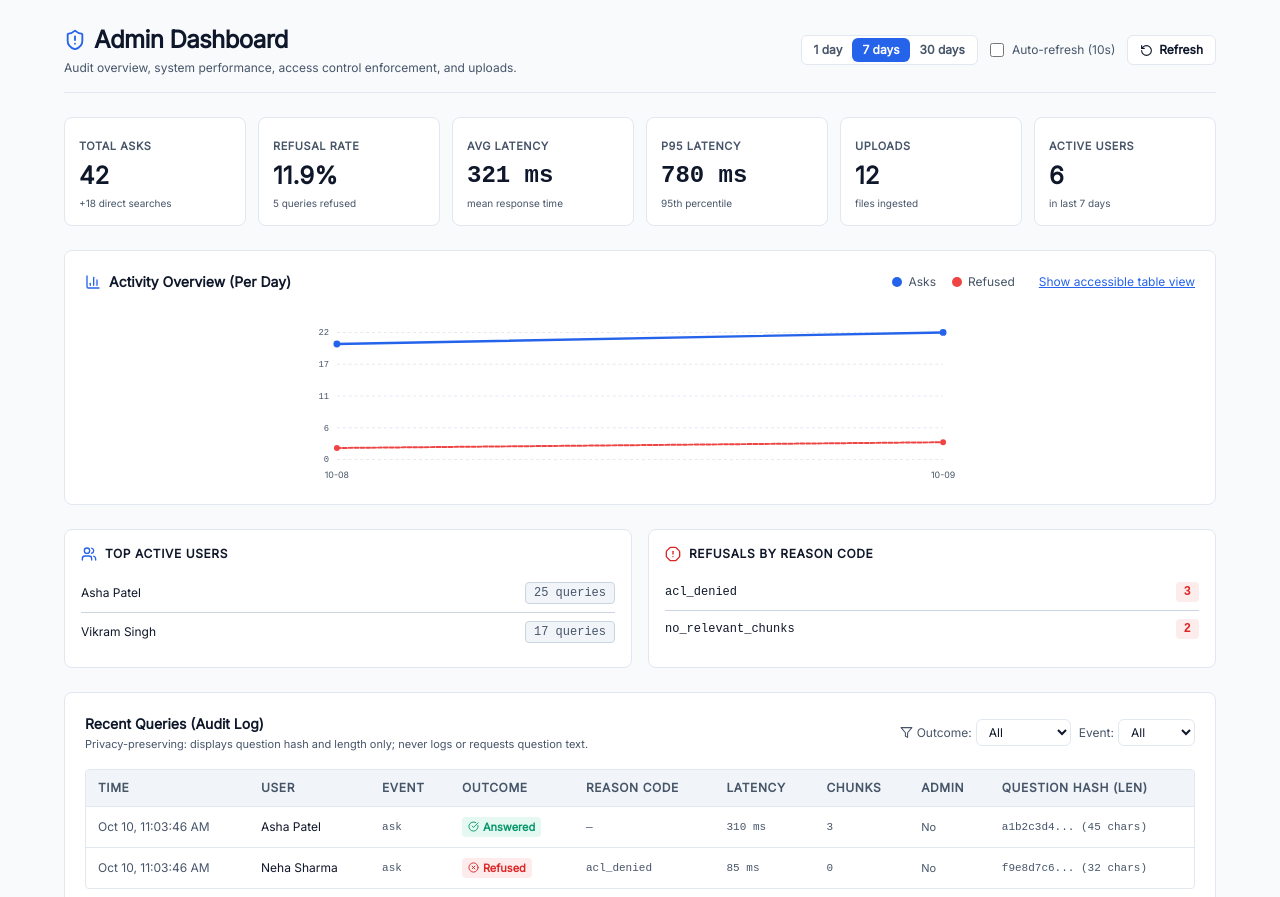
Test case: Admin Dashboard and AdminRouteGuard › 4. toggles between SVG chart and accessible table view
The image size is (1280, 897).
Expected: the heading "Activity Overview (Per Day)" is shown, [109,271,291,292]
Expected: the picture named "Activity timeline chart" is shown, [85,308,1195,484]
# Click toggle to table view
Click the button with test id "toggle-chart-table-button" at (1117, 282), box [1039,274,1195,290]
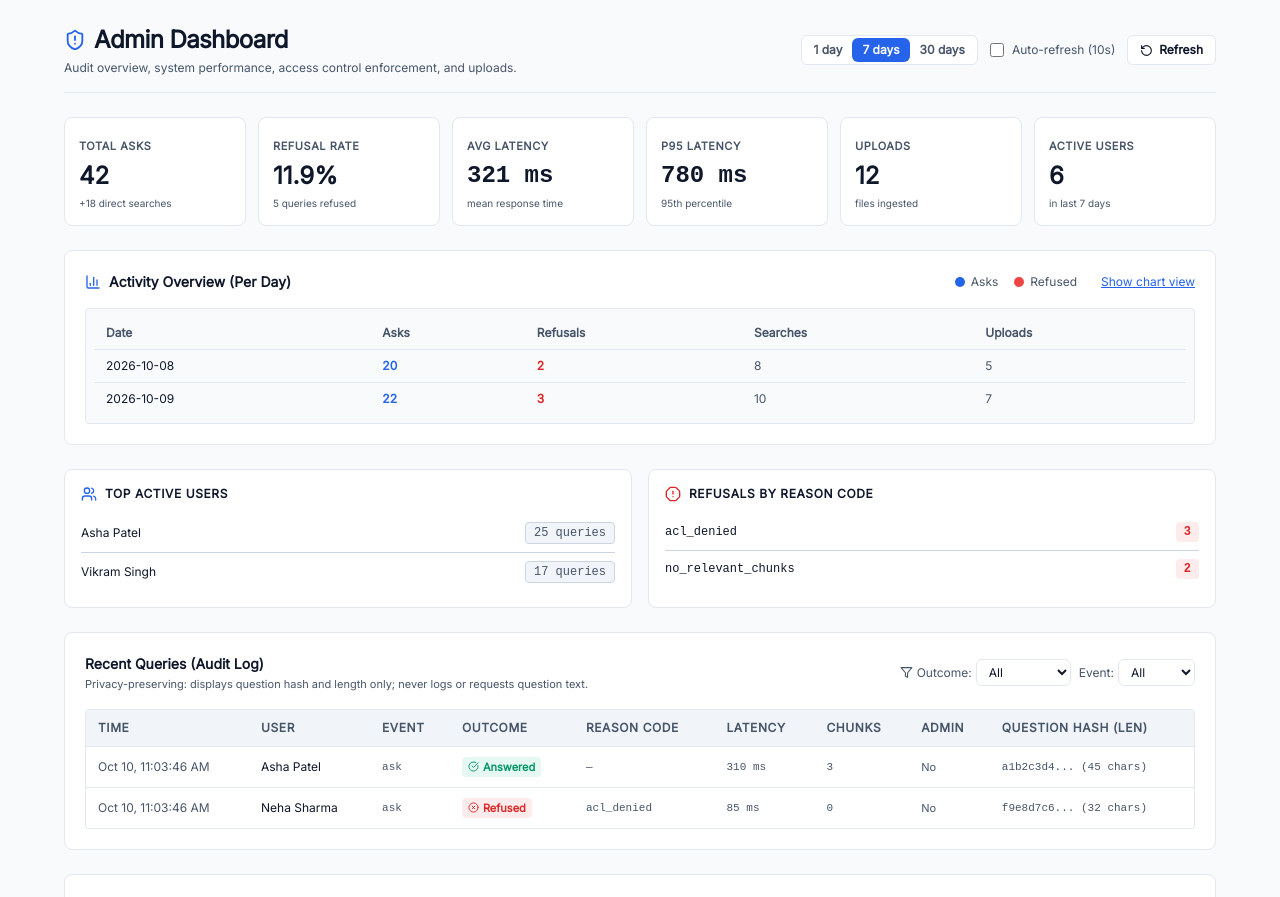
Now the table named "Daily asks and refusals activity table" is shown, box [94,317,1186,415]
